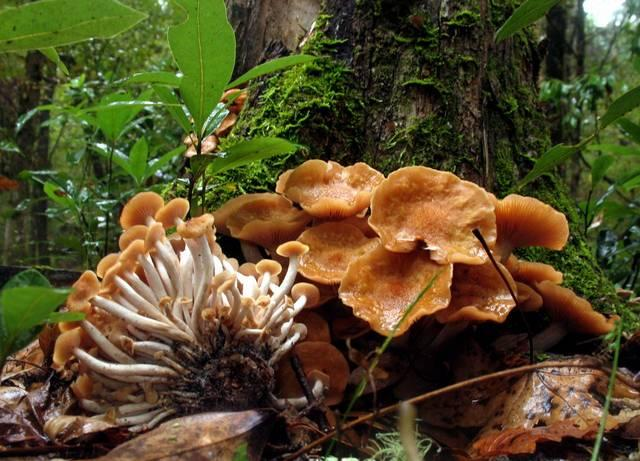edible_mushroom: (46, 159, 618, 461)
